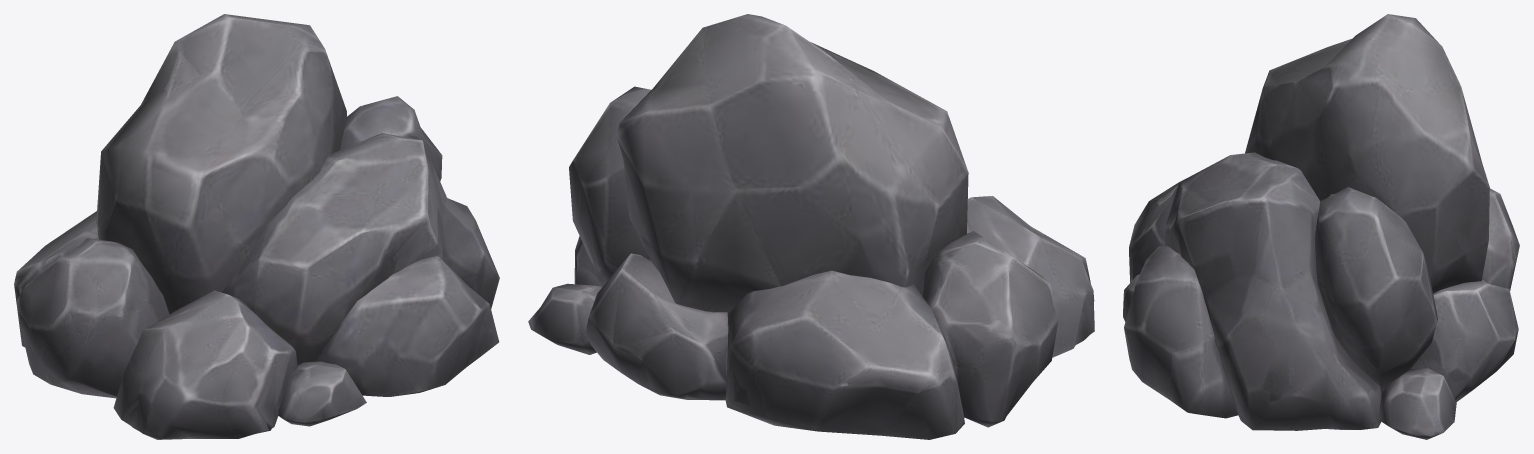
File: node-rock.glb
3 renders of one model, left to right at view 1: azimuth 30°, elevation 25°; view 2: azimuth 150°, elevation 25°; view 3: azimuth 270°, elevation 25°, orthographic. The views are drawn at different scales.
Visible parts, largest first — view 1: node-rock; view 2: node-rock; view 3: node-rock.
Part boxes in pixels (x1=…): node-rock: x1=14, y1=14, x2=499, y2=439; node-rock: x1=528, y1=14, x2=1094, y2=439; node-rock: x1=1123, y1=14, x2=1519, y2=439.
Bounding box in the file's own units: 2.55 × 1.82 × 1.97.
Materials: 1 (1 with a texture image).
